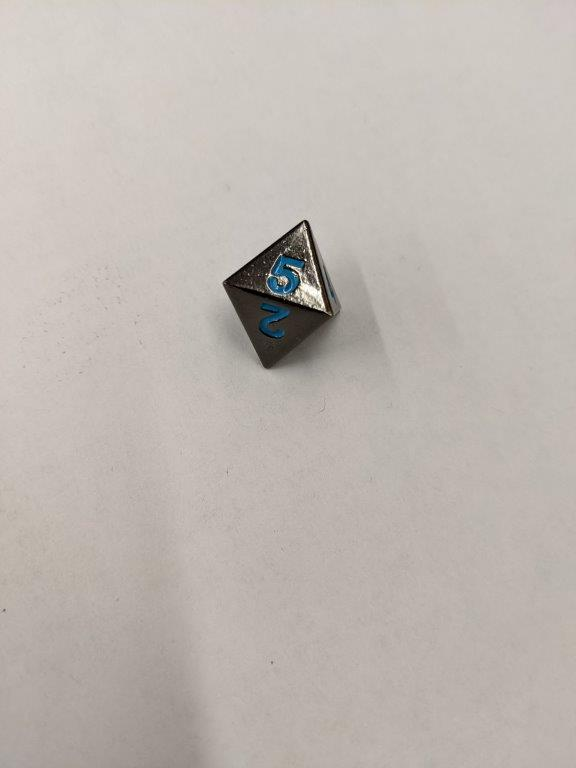d8-5: (219, 219, 340, 374)
